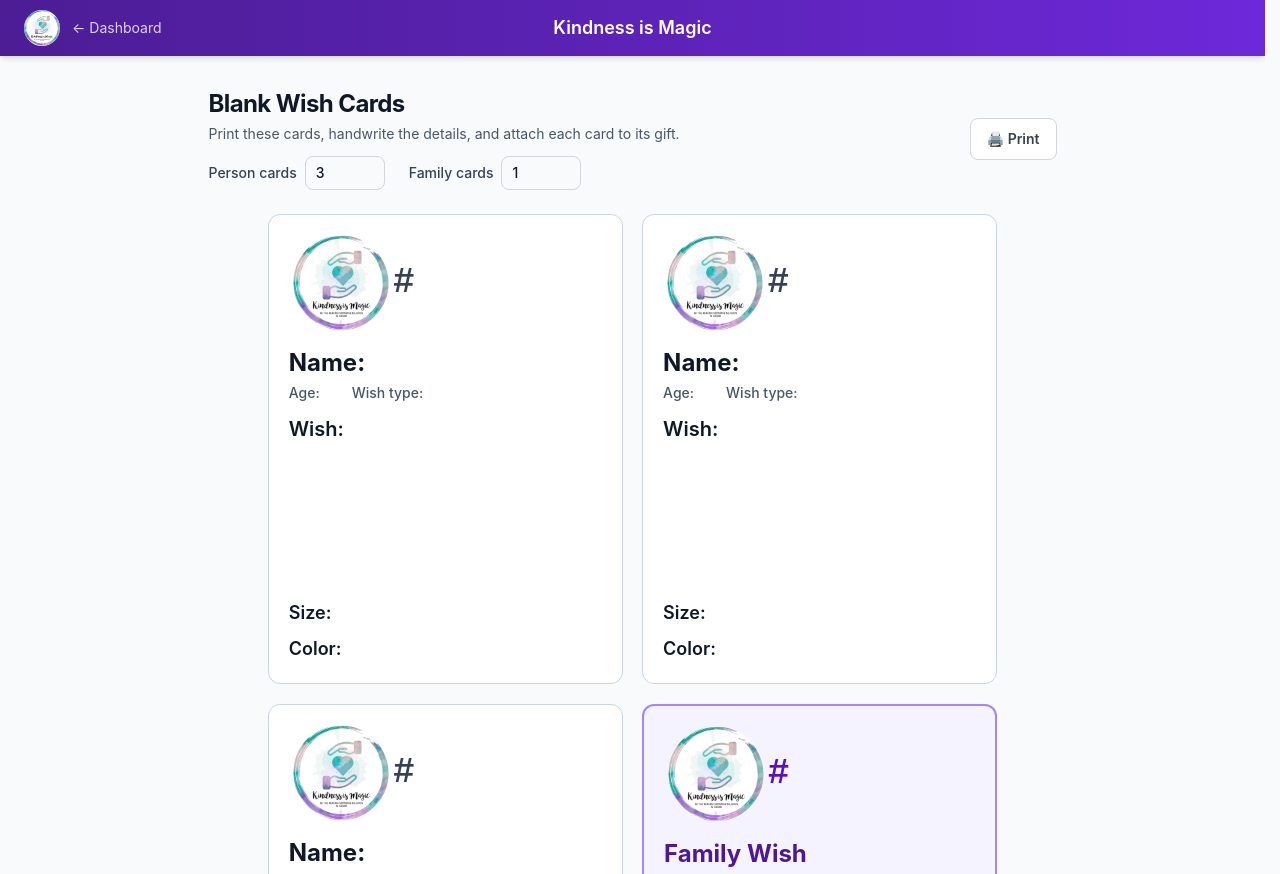
Test case: AdminWishCards page › shows the empty state when both counts are 0
This screenshot has width=1280, height=874.
Clear the number field labelled "Person cards": (345, 173) x1=305 y1=156 x2=385 y2=190
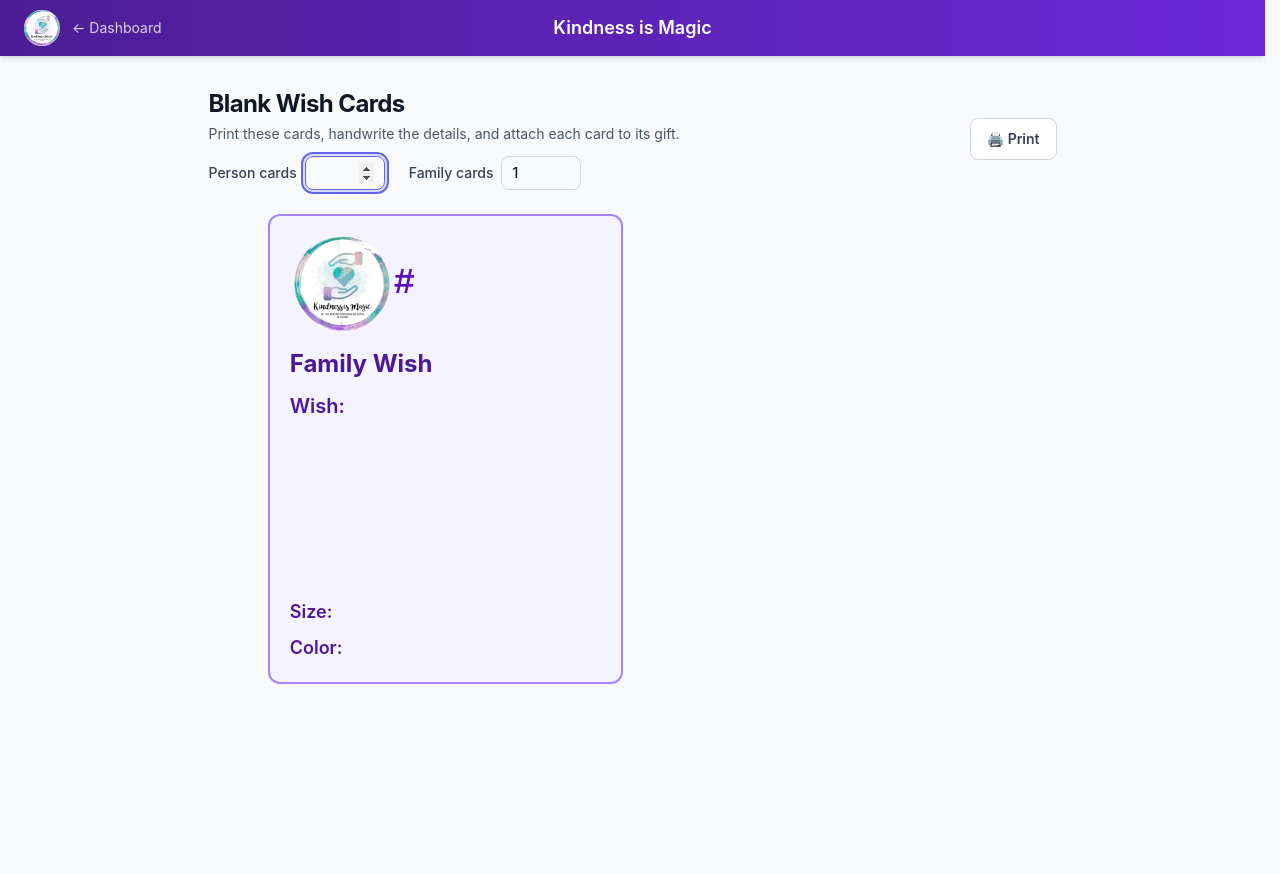
Clear the number field labelled "Family cards": (542, 173) x1=502 y1=156 x2=582 y2=190
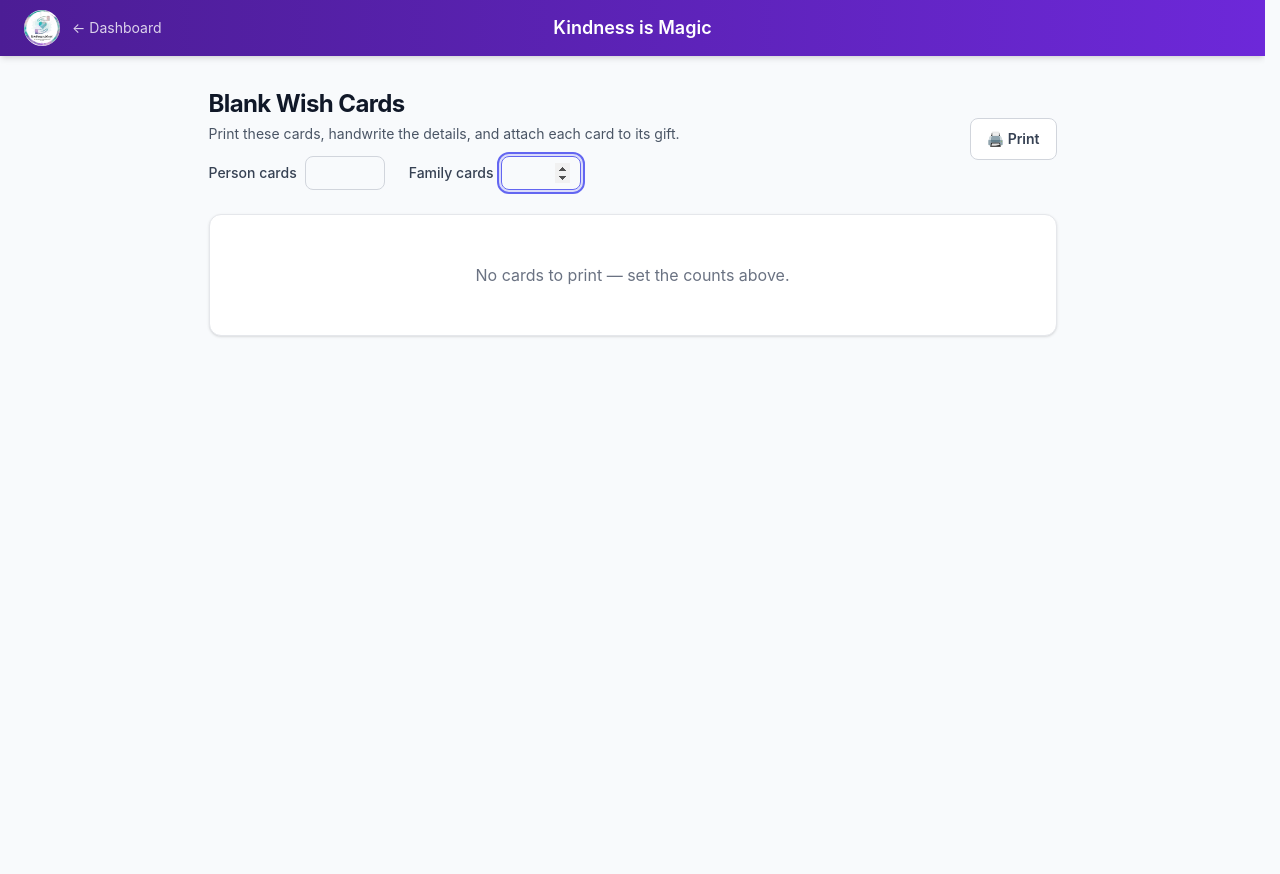
Expected: the text "No cards to print — set the counts above." is shown, x1=476 y1=265 x2=790 y2=285
